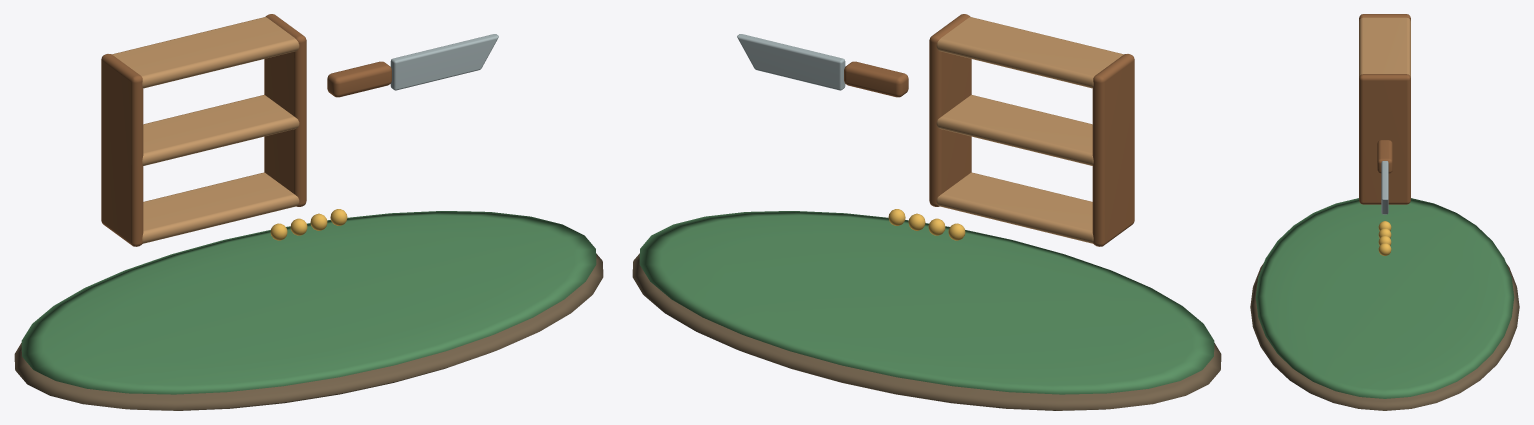
The model's file is complete-second-divided-department.glb.
3 renders of one model, left to right at view 1: azimuth 30°, elevation 25°; view 2: azimuth 150°, elevation 25°; view 3: azimuth 270°, elevation 25°, orthographic. The views are drawn at different scales.
Parts seen in each view (by area): view 1: complete-second-divided-department_surface_01, complete-second-divided-department_surface_02, complete-second-divided-department_surface_03, complete-second-divided-department_surface_00, complete-second-divided-department_surface_04, complete-second-divided-department_surface_05; view 2: complete-second-divided-department_surface_01, complete-second-divided-department_surface_02, complete-second-divided-department_surface_03, complete-second-divided-department_surface_00, complete-second-divided-department_surface_04, complete-second-divided-department_surface_05; view 3: complete-second-divided-department_surface_01, complete-second-divided-department_surface_03, complete-second-divided-department_surface_00, complete-second-divided-department_surface_02, complete-second-divided-department_surface_04, complete-second-divided-department_surface_05.
Boxes of the visible parts, x1,y1,x2,y2 form: complete-second-divided-department_surface_01: (21,211,596,394); complete-second-divided-department_surface_02: (112,17,299,243); complete-second-divided-department_surface_03: (101,14,391,246); complete-second-divided-department_surface_00: (14,253,603,410); complete-second-divided-department_surface_04: (390,34,498,90); complete-second-divided-department_surface_05: (270,209,347,240); complete-second-divided-department_surface_01: (639,211,1214,394); complete-second-divided-department_surface_02: (936,17,1123,243); complete-second-divided-department_surface_03: (844,14,1134,246); complete-second-divided-department_surface_00: (632,253,1221,410); complete-second-divided-department_surface_04: (737,34,845,90); complete-second-divided-department_surface_05: (888,209,965,240); complete-second-divided-department_surface_01: (1255,198,1514,398); complete-second-divided-department_surface_03: (1359,14,1410,204); complete-second-divided-department_surface_00: (1250,263,1519,410); complete-second-divided-department_surface_02: (1359,17,1410,77); complete-second-divided-department_surface_04: (1381,161,1388,214); complete-second-divided-department_surface_05: (1378,221,1391,255).
Size of the model in its own units: 4.56 by 2.42 by 2.5.
